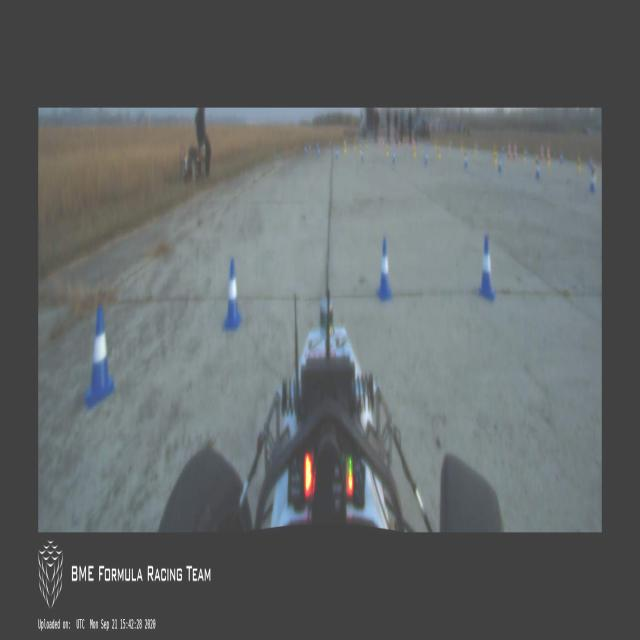blue_cone: (85, 310, 113, 408), (225, 258, 241, 329), (478, 236, 494, 300), (377, 237, 391, 301), (589, 168, 595, 190), (536, 160, 540, 179), (498, 154, 502, 172), (464, 153, 468, 169), (392, 148, 395, 164), (361, 149, 364, 163), (425, 150, 427, 164)
yellow_cone: (576, 156, 582, 174), (493, 152, 498, 168), (593, 163, 597, 182), (534, 153, 538, 170), (546, 150, 550, 166), (386, 143, 389, 157), (344, 142, 347, 154), (438, 144, 440, 160), (414, 143, 416, 157)
